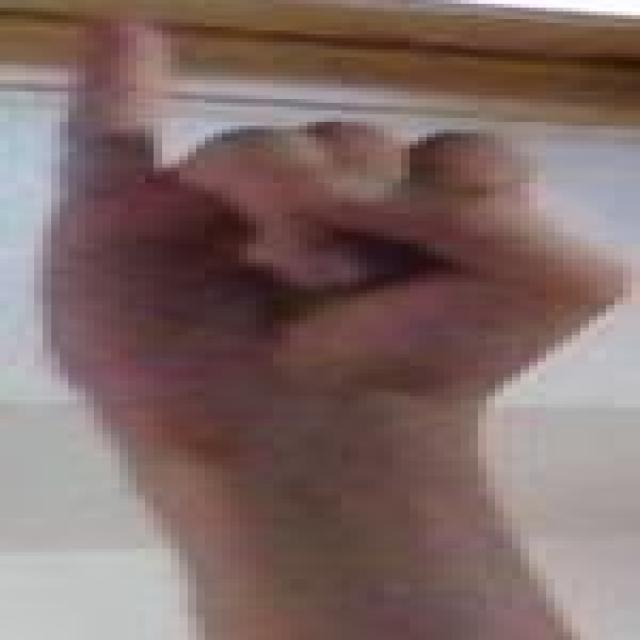I: (0, 3, 640, 411)
